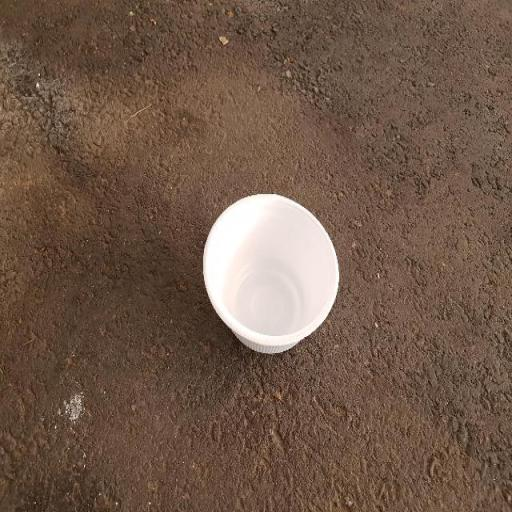styrofoam: (203, 194, 338, 352)
